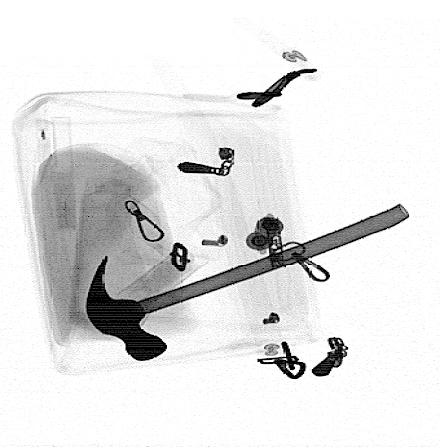Hammer: (85, 204, 411, 362)
